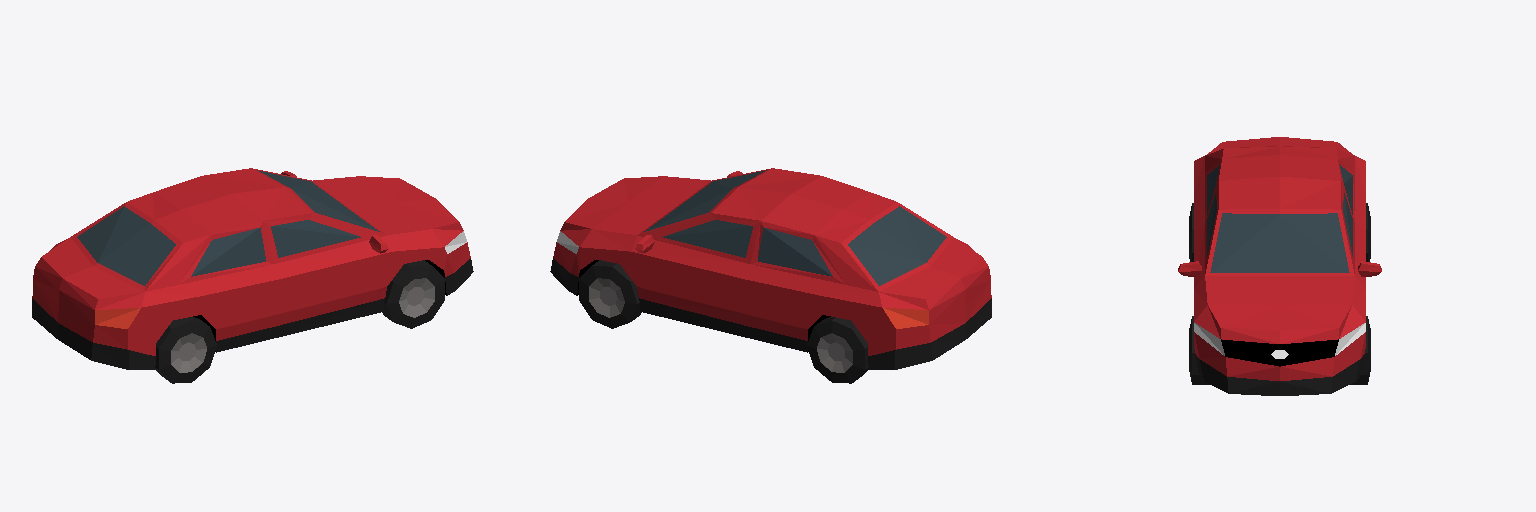
File: Car2.obj
3 renders of one model, left to right at view 1: azimuth 30°, elevation 25°; view 2: azimuth 150°, elevation 25°; view 3: azimuth 270°, elevation 25°, orthographic.
Visible parts, largest first — view 1: car-passenger-base, car-passenger-wheel_BR, car-passenger-wheel_FR; view 2: car-passenger-base, car-passenger.002, car-passenger-wheel_FL; view 3: car-passenger-base.
Boxes of the visible parts, <box> form: car-passenger-base: <box>32,168,473,369</box>; car-passenger-wheel_BR: <box>155,317,216,383</box>; car-passenger-wheel_FR: <box>382,260,444,328</box>; car-passenger-base: <box>550,168,991,369</box>; car-passenger.002: <box>807,317,868,383</box>; car-passenger-wheel_FL: <box>579,260,641,328</box>; car-passenger-base: <box>1178,137,1381,395</box>.
Size of the model in its own units: 4.72 by 1.55 by 2.1.